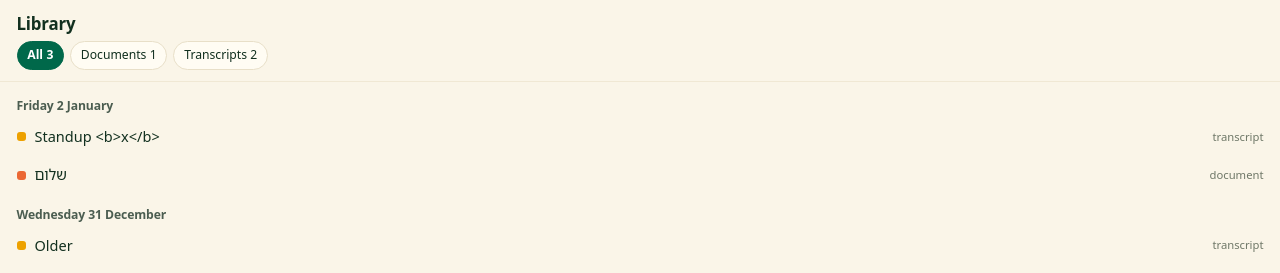
Scenario: LibraryPane › kind chips filter with aria-pressed and show counts
Click the button "Documents 1" at (119, 55), box [70, 41, 168, 70]
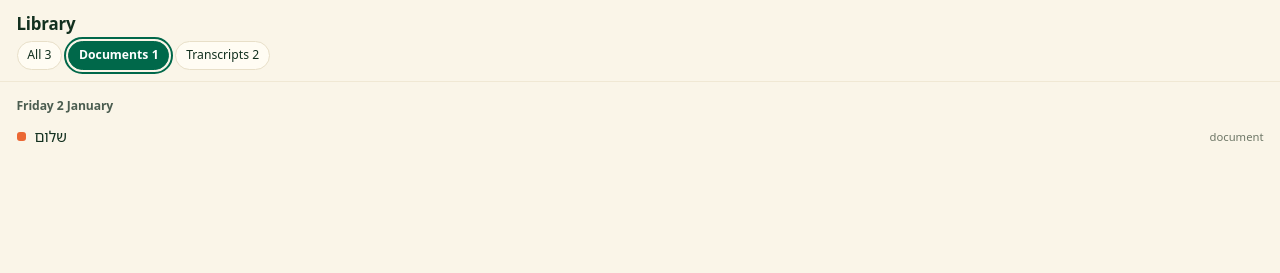
Check: the text "שלום" is shown, box [34, 125, 67, 148]
Check: the button "Older" is gone
Click the button "All 3" at (39, 55), box [16, 41, 62, 70]
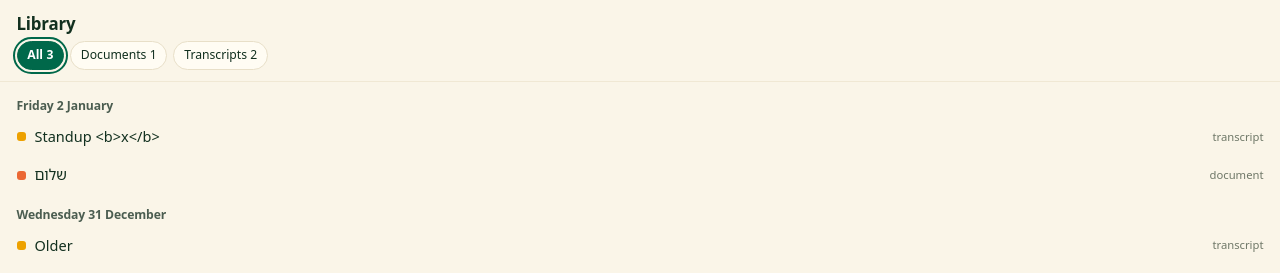
Check: the text "Older" is shown, box [34, 234, 73, 257]
